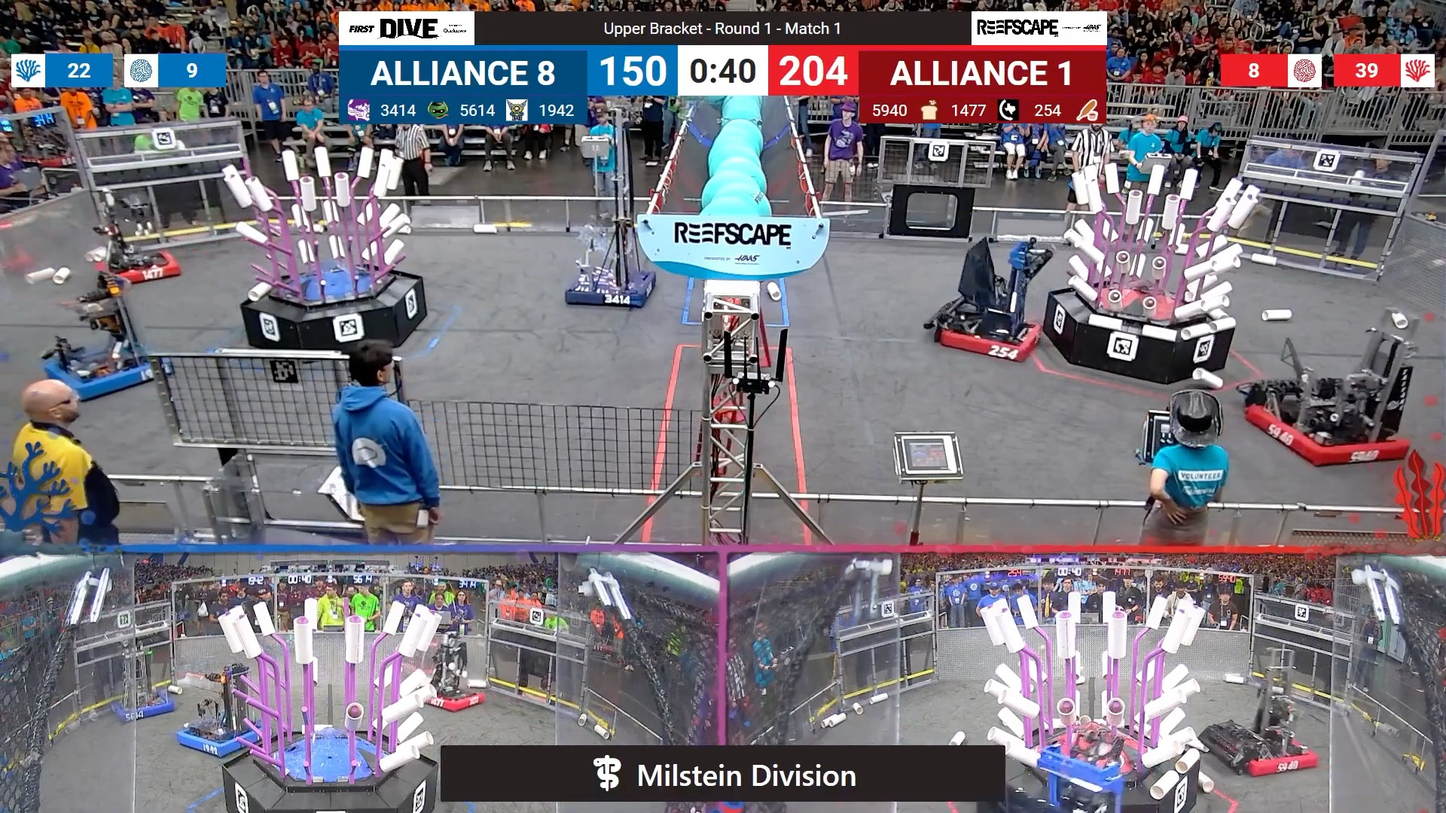bumpers: (1232, 389, 1416, 468), (31, 346, 164, 406), (1198, 723, 1325, 784), (932, 307, 1052, 365), (173, 709, 276, 759), (563, 266, 667, 312), (91, 244, 194, 289), (101, 692, 181, 726), (420, 683, 491, 714)
